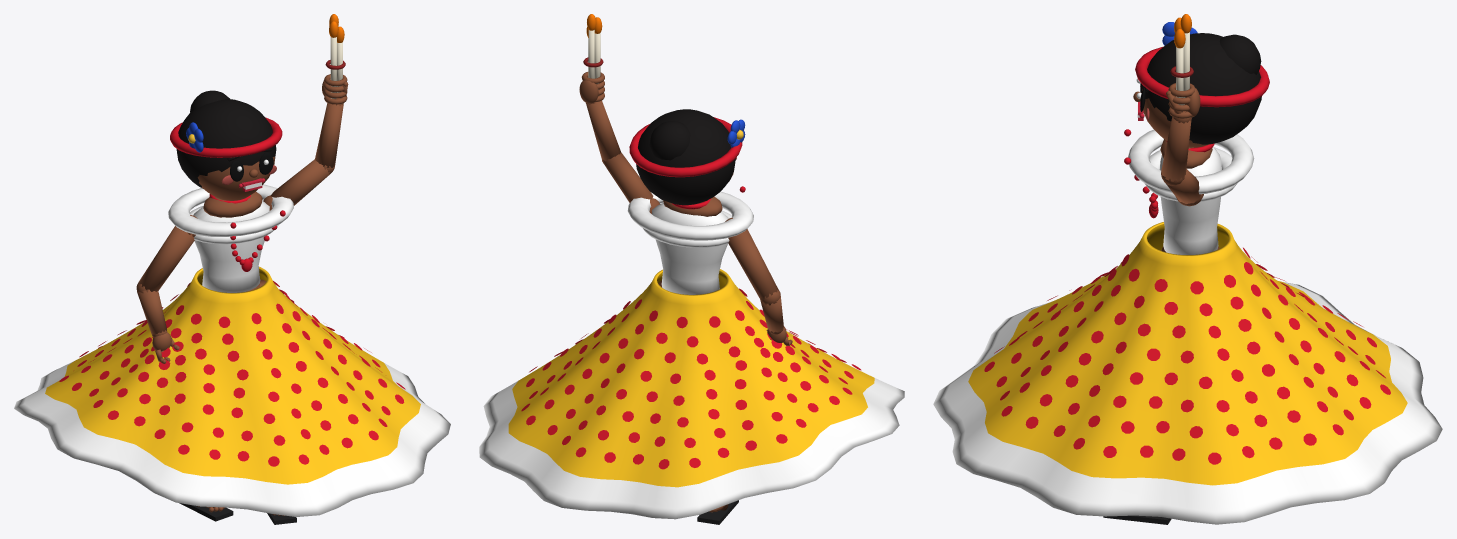
File: bailarina-vestido-amarilla-puntos-blancos.glb
3 renders of one model, left to right at view 1: azimuth 30°, elevation 25°; view 2: azimuth 150°, elevation 25°; view 3: azimuth 270°, elevation 25°, orthographic. The views are drawn at different scales.
Visible parts, largest first — view 1: Pollera, Lunares, Cabello, Torso_Blusa, Bolero_Alto, Brazo_Izq_Sup, Cinta_Cabeza, Cabeza, Brazo_Der_Inf, Brazo_Der_Sup, Escote, Brazo_Izq_Inf (+1 smaller); view 2: Pollera, Lunares, Cabello, Torso_Blusa, Bolero_Alto, Brazo_Izq_Sup, Cinta_Cabeza, Mono, Brazo_Der_Sup, Brazo_Der_Inf, Bolero_Bajo, Brazo_Izq_Inf (+1 smaller); view 3: Pollera, Lunares, Cabello, Torso_Blusa, Bolero_Alto, Cinta_Cabeza, Brazo_Der_Inf, Mono, Bolero_Bajo, Cabeza, Brazo_Der_Sup.
Boxes of the visible parts, left/top/right/bottom form: Pollera: left=14, top=266, right=450, bottom=516; Lunares: left=59, top=281, right=405, bottom=466; Cabello: left=176, top=99, right=276, bottom=188; Torso_Blusa: left=193, top=201, right=269, bottom=292; Bolero_Alto: left=168, top=184, right=293, bottom=236; Brazo_Izq_Sup: left=139, top=226, right=194, bottom=291; Cinta_Cabeza: left=170, top=117, right=282, bottom=157; Cabeza: left=197, top=156, right=275, bottom=200; Brazo_Der_Inf: left=315, top=103, right=343, bottom=167; Brazo_Der_Sup: left=270, top=159, right=330, bottom=205; Escote: left=203, top=191, right=262, bottom=217; Brazo_Izq_Inf: left=137, top=289, right=166, bottom=334; Pollera: left=479, top=269, right=904, bottom=519; Lunares: left=521, top=288, right=861, bottom=469; Cabello: left=636, top=109, right=735, bottom=205; Torso_Blusa: left=652, top=203, right=728, bottom=294; Bolero_Alto: left=627, top=191, right=753, bottom=240; Brazo_Izq_Sup: left=728, top=229, right=778, bottom=300; Cinta_Cabeza: left=629, top=117, right=742, bottom=177; Mono: left=649, top=121, right=690, bottom=160; Brazo_Der_Sup: left=603, top=152, right=653, bottom=202; Brazo_Der_Inf: left=586, top=100, right=621, bottom=161; Bolero_Bajo: left=643, top=210, right=731, bottom=247; Brazo_Izq_Inf: left=760, top=296, right=783, bottom=332; Pollera: left=933, top=222, right=1442, bottom=524; Lunares: left=984, top=247, right=1390, bottom=464; Cabello: left=1142, top=33, right=1261, bottom=144; Torso_Blusa: left=1159, top=147, right=1221, bottom=254; Bolero_Alto: left=1128, top=129, right=1254, bottom=194; Cinta_Cabeza: left=1135, top=46, right=1269, bottom=107; Brazo_Der_Inf: left=1161, top=117, right=1191, bottom=181; Mono: left=1219, top=34, right=1261, bottom=74; Bolero_Bajo: left=1144, top=147, right=1237, bottom=201; Cabeza: left=1141, top=89, right=1208, bottom=147; Brazo_Der_Sup: left=1165, top=169, right=1200, bottom=203.
Size of the model in its own units: 1.75 by 2.07 by 1.75.
